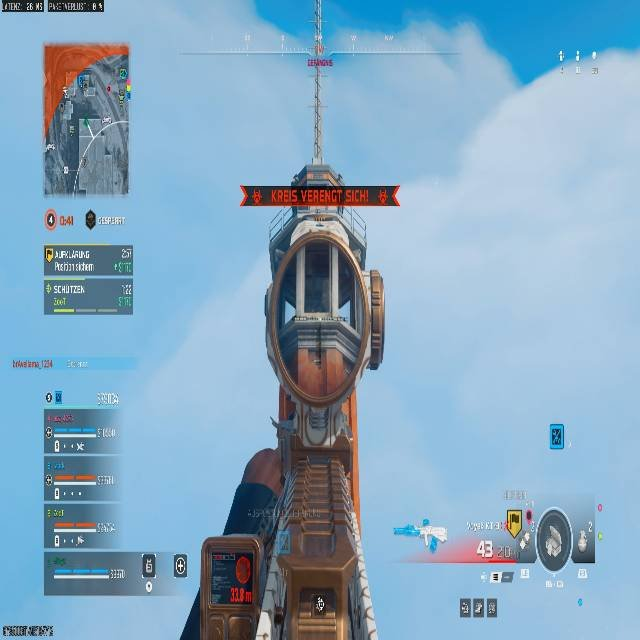head: (259, 182, 384, 404)
player: (220, 190, 385, 640)
